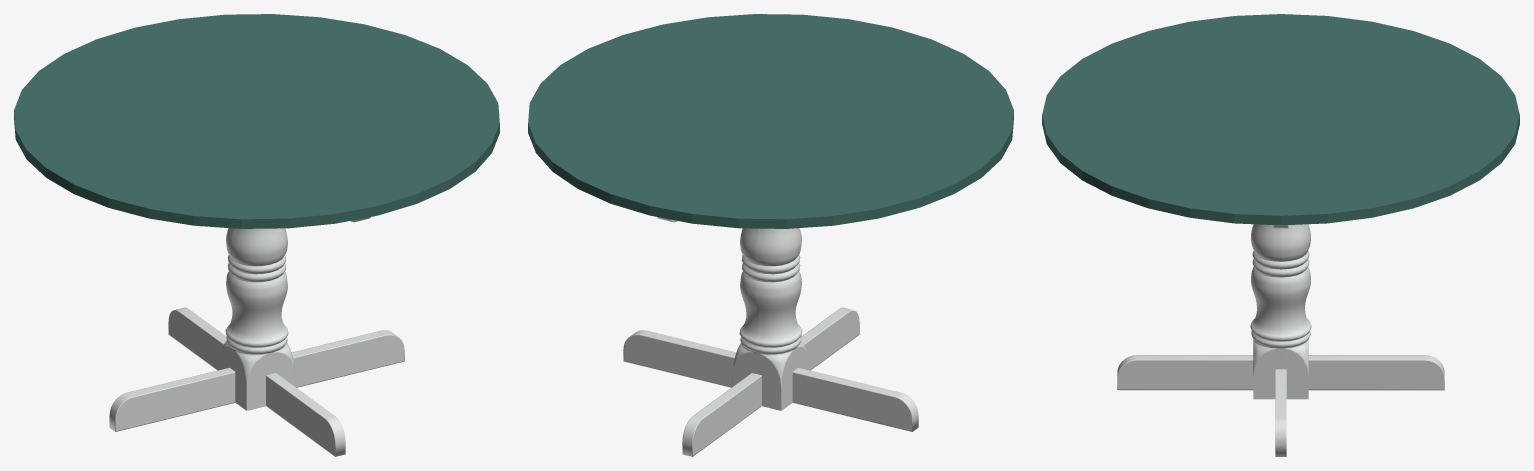
File: Dining  Table.fbx
The picture shows the model from 3 angles, left to right: view 1: azimuth 30°, elevation 25°; view 2: azimuth 150°, elevation 25°; view 3: azimuth 270°, elevation 25°; orthographic projection.
Visible parts, largest first — view 1: Circle; view 2: Circle; view 3: Circle.
Part boxes in pixels (<box>): Circle: <box>14,14,499,456</box>; Circle: <box>528,14,1013,456</box>; Circle: <box>1042,14,1519,456</box>.
Bounding box in the file's own units: 119 × 74.72 × 119.
